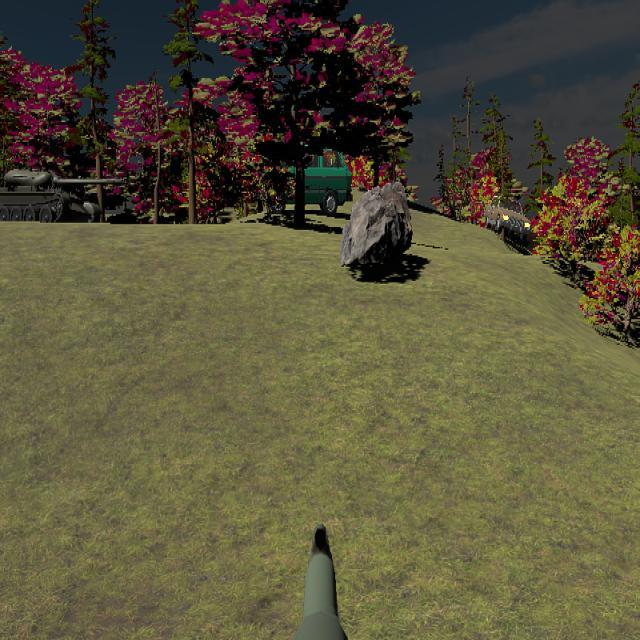Tank: (0, 167, 130, 229)
car: (485, 194, 532, 241)
